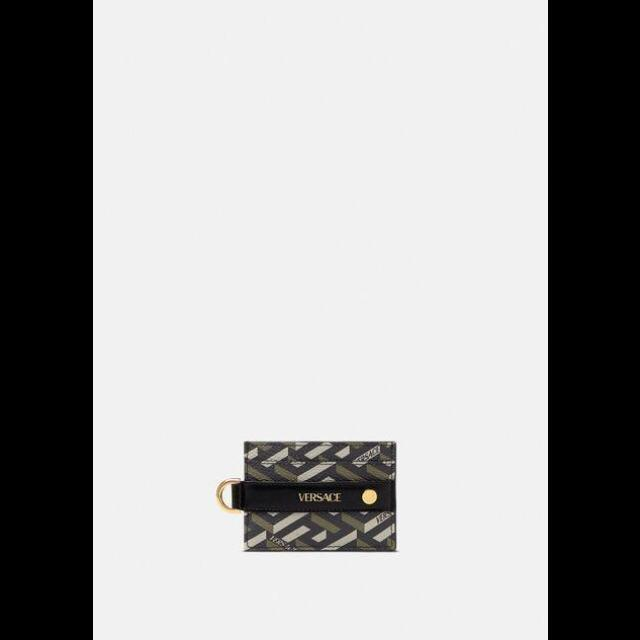wallet: (235, 436, 398, 558)
